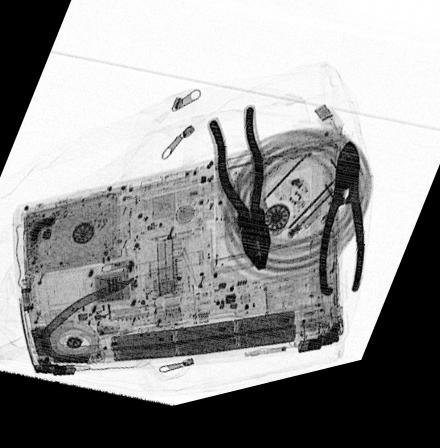Pliers: (205, 114, 273, 285), (318, 158, 365, 313)
